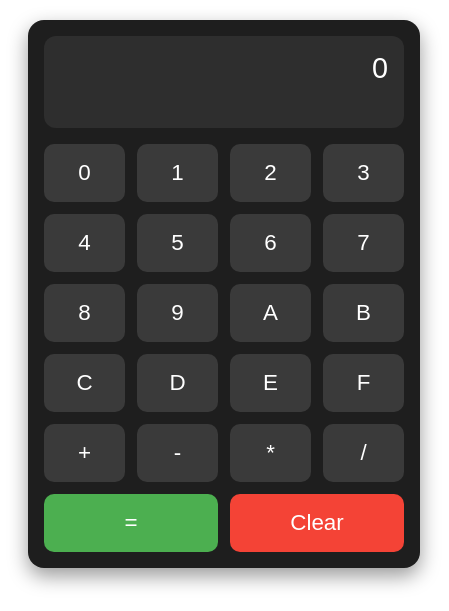
Hex Calculator GUI › error on divide by zero
Click the button "A".
click(270, 313)  # box x1=230 y1=284 x2=311 y2=342
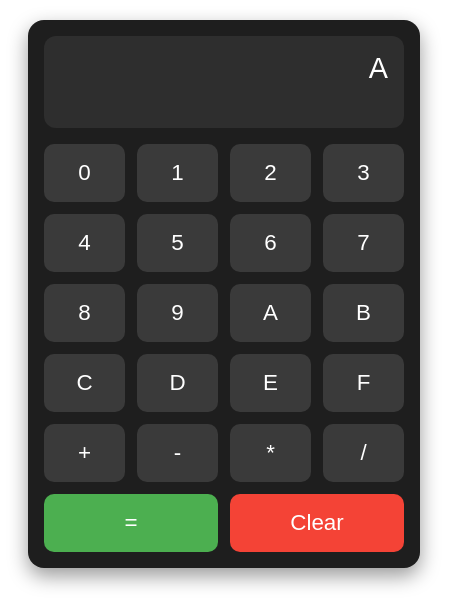
Click the button "/".
click(364, 453)  # box x1=323 y1=424 x2=404 y2=482
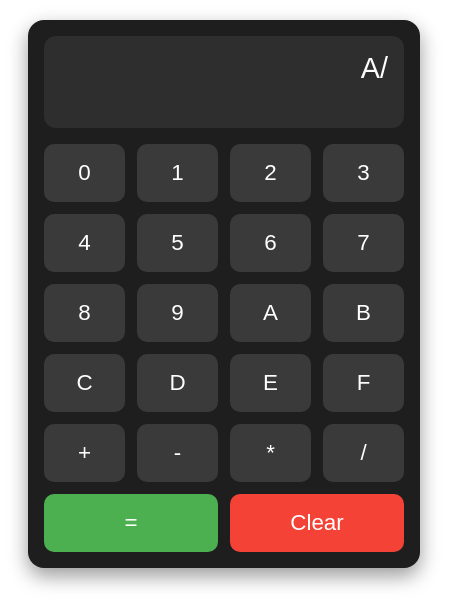
Click the button "0".
click(84, 173)  # box x1=44 y1=144 x2=125 y2=202
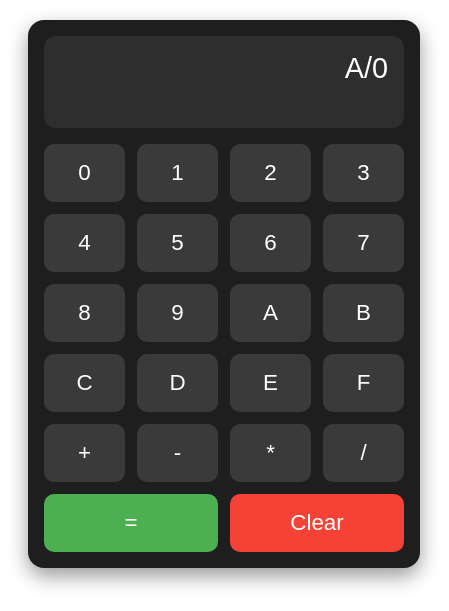
Click the button "=".
click(131, 523)  # box x1=44 y1=494 x2=218 y2=552
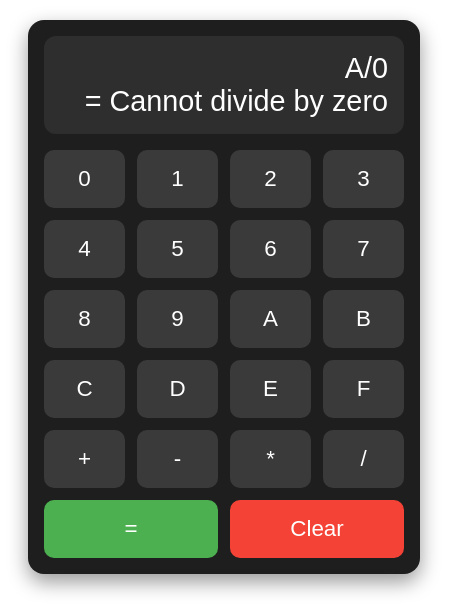
Now the text "= Cannot divide by zero" is shown, box x1=60 y1=85 x2=388 y2=118
